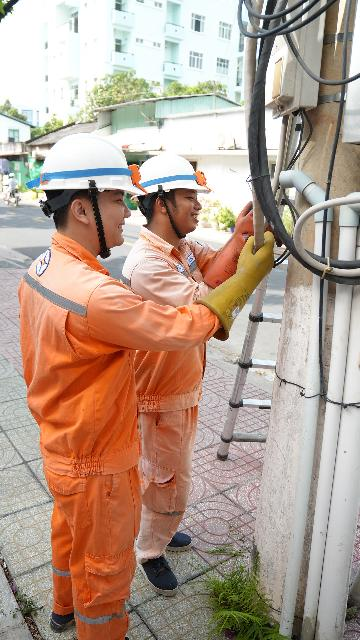gloves: (198, 230, 288, 344), (201, 193, 277, 288)
helmet: (32, 127, 153, 206), (130, 148, 226, 201)
shoes: (29, 595, 102, 635), (134, 547, 179, 602), (157, 523, 202, 558), (128, 632, 138, 640)
